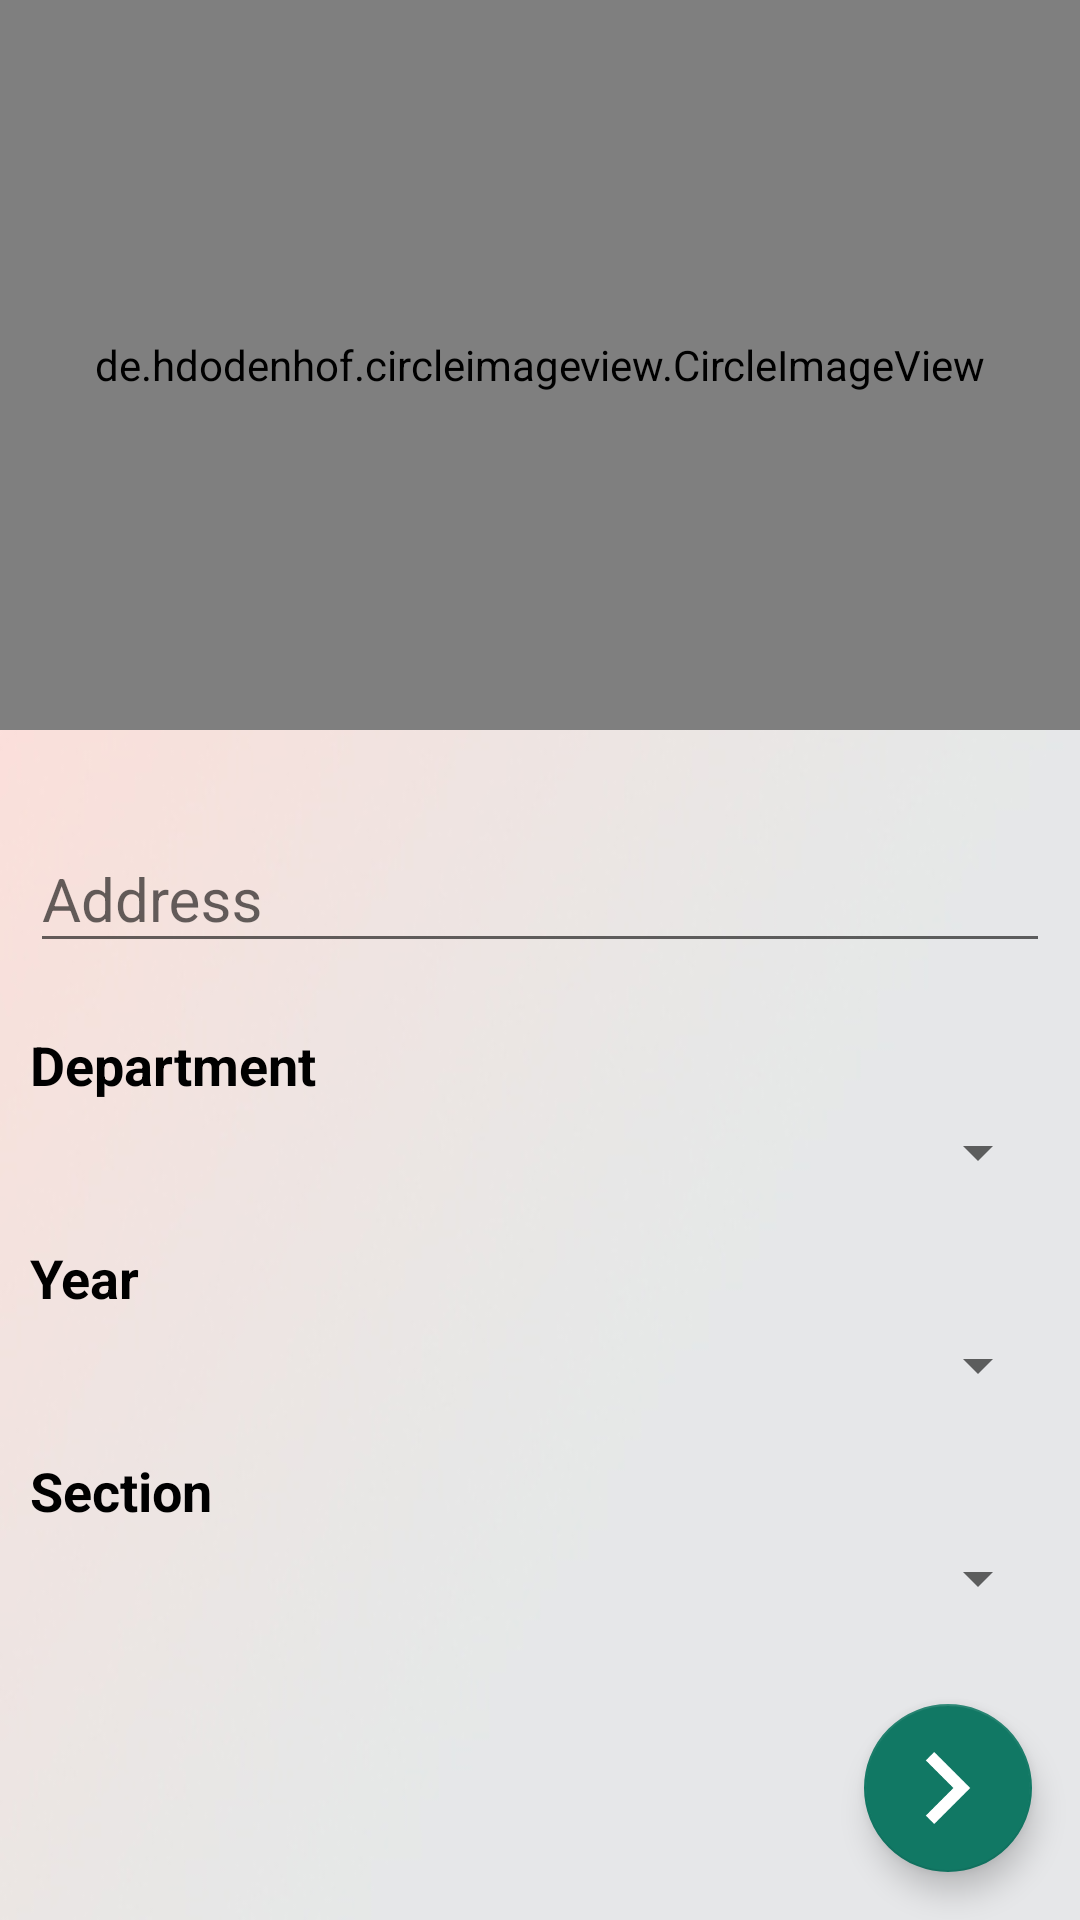

Icon click points for this 1080w x 1920h phone screenshot, format [x,y]:
arrow: [948,1788]
